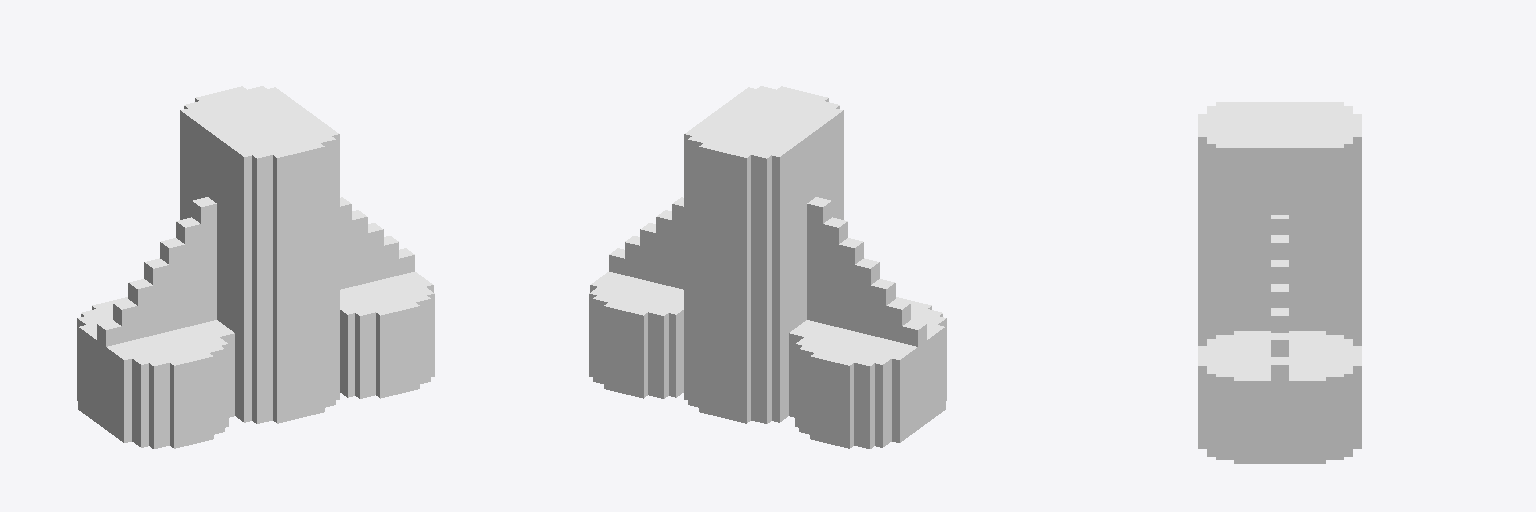
File: ship-1-middle.obj
3 views of the same model, side by side, from view 1: azimuth 30°, elevation 25°; view 2: azimuth 150°, elevation 25°; view 3: azimuth 270°, elevation 25° (orthographic).
Parts seen in each view (by area): view 1: middle; view 2: middle; view 3: middle.
Part boxes in pixels (x1,y1,x2,y2): middle: (77, 86, 434, 448); middle: (589, 86, 946, 448); middle: (1198, 102, 1361, 463).
Size of the model in its own units: 3.9 by 3.2 by 1.8.